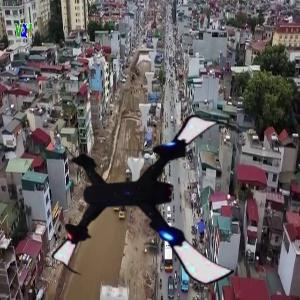drone: (57, 99, 247, 289)
